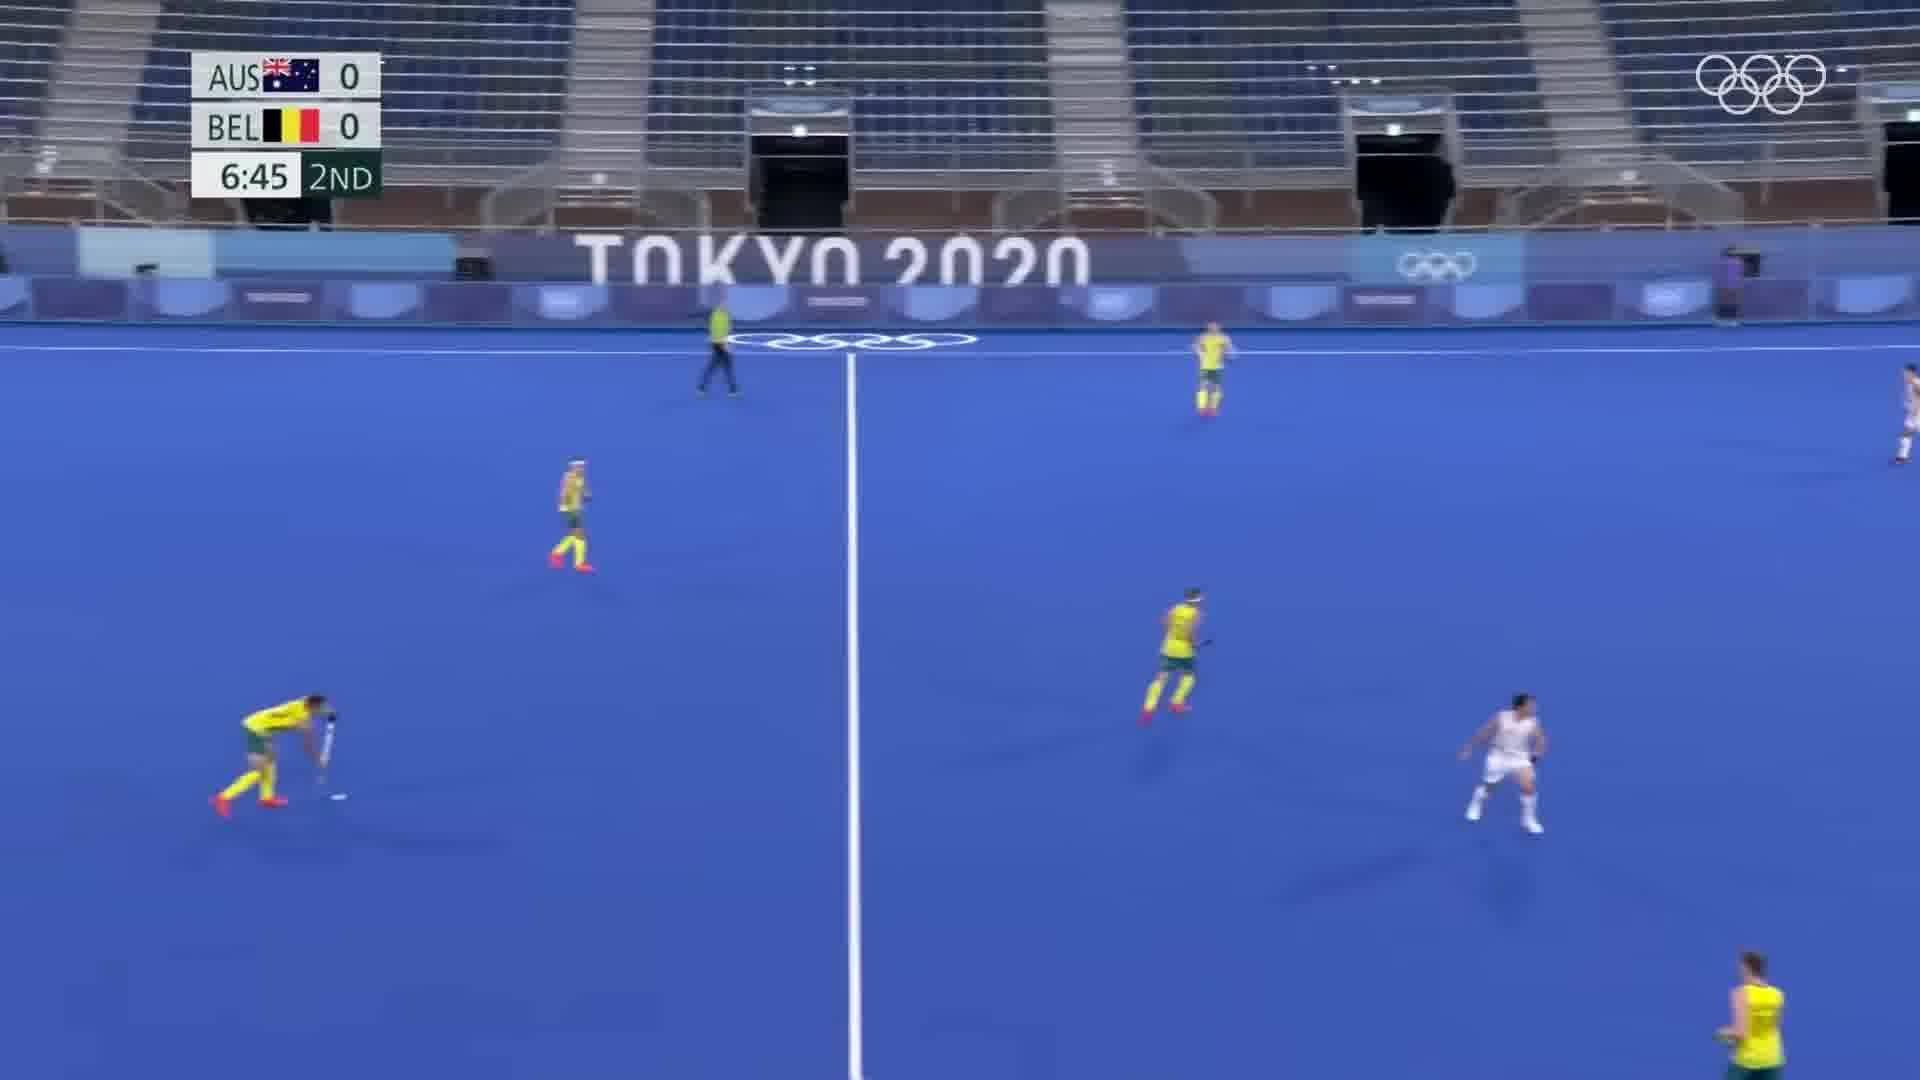ball: (320, 785, 357, 806)
